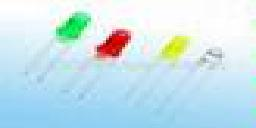LED: (94, 28, 133, 65), (194, 41, 230, 80), (54, 9, 88, 41), (159, 30, 190, 65)
